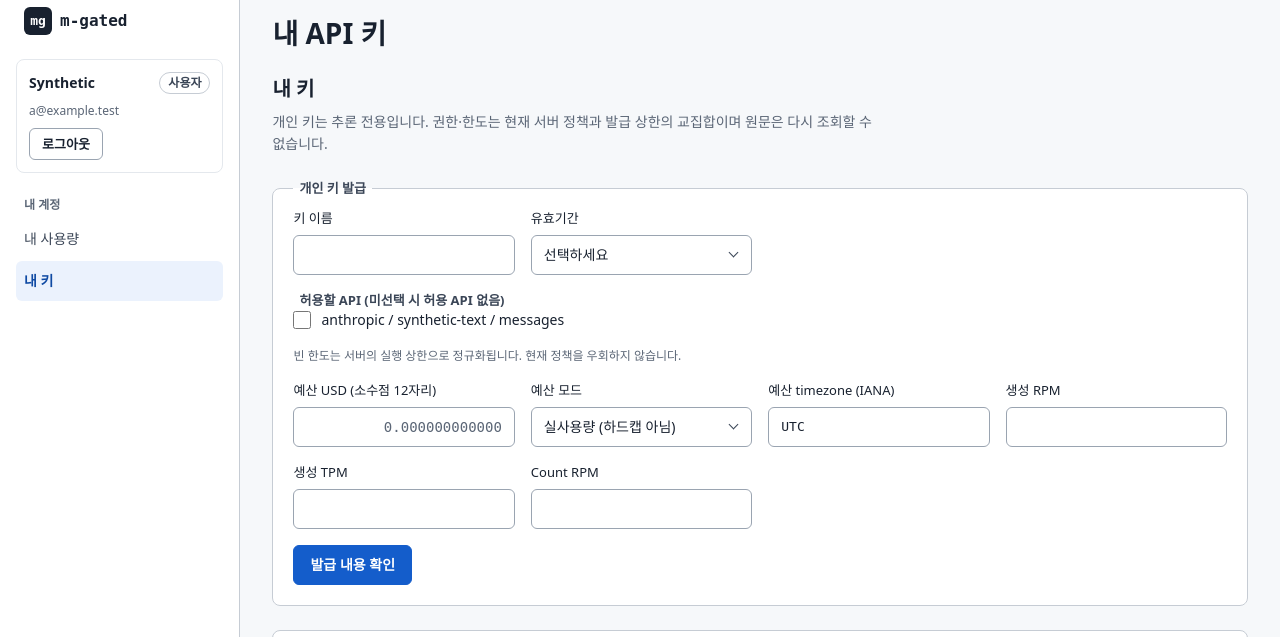
Scenario: copy_failure_keeps_the_key_visible_and_asks_for_manual_copy
The width and height of the screenshot is (1280, 637).
Expected: the heading "내 키" is shown, [272, 75, 314, 102]
Step 1. Type "복사 키" into the field labelled "키 이름" → point(404, 255), box [294, 235, 515, 275]
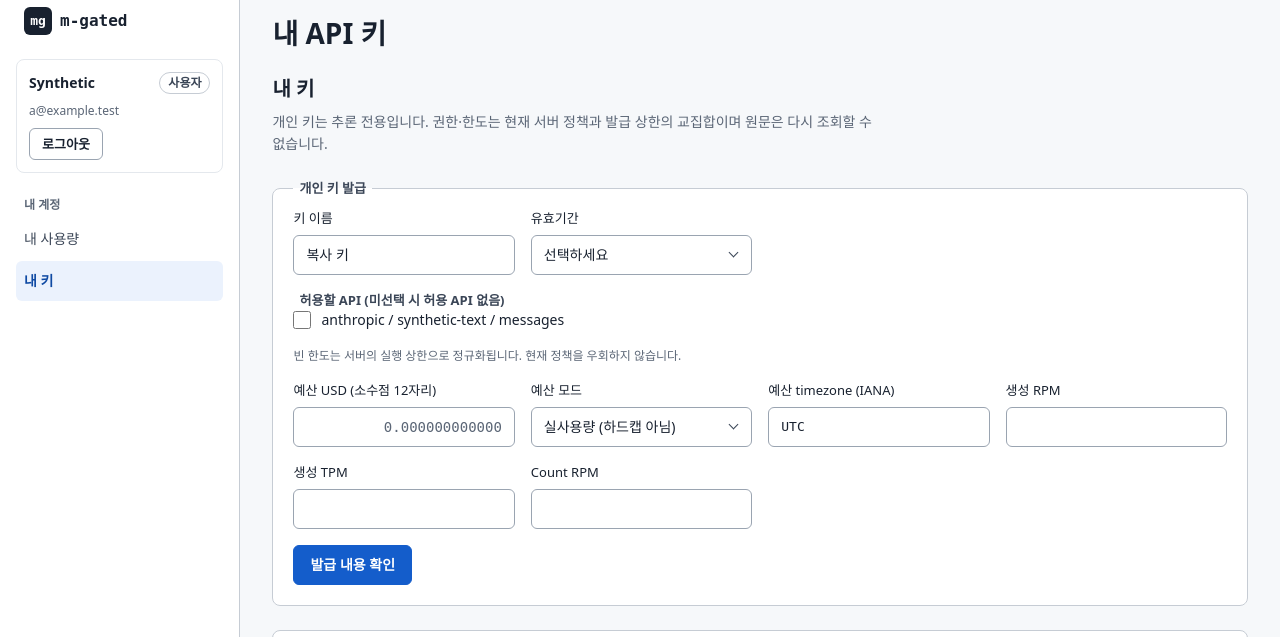
Step 2. Select "무제한 (만료 없음, 회수·정지는 적용)" in the dropdown labelled "유효기간" → point(642, 255), box [531, 235, 752, 275]
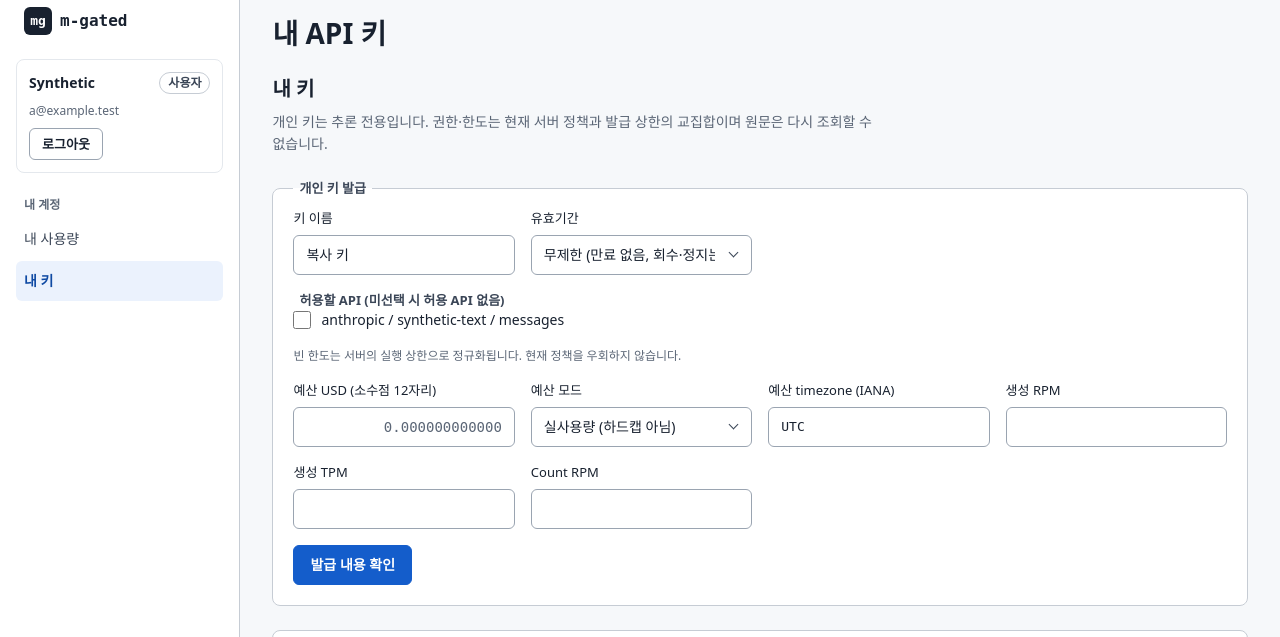
Step 3. Submit the form "개인 키 발급", box [272, 179, 1248, 606]
(page scrolled)
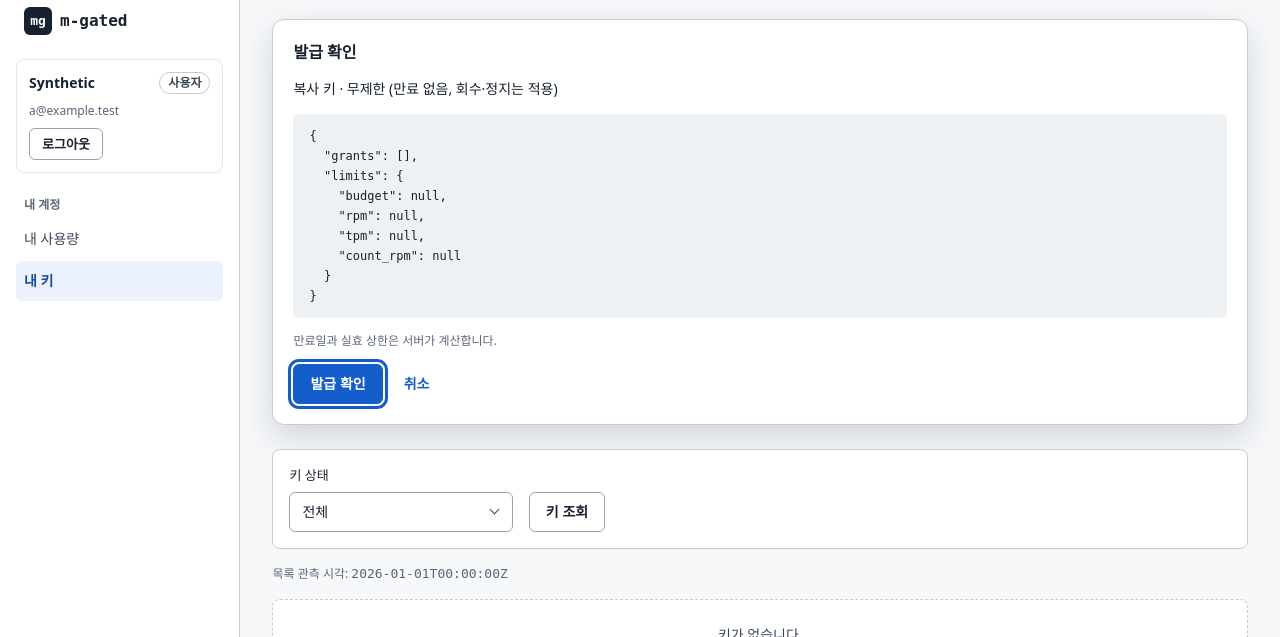
Step 4. Click the button "발급 확인" → point(338, 384), box [294, 364, 383, 404]
(page scrolled)
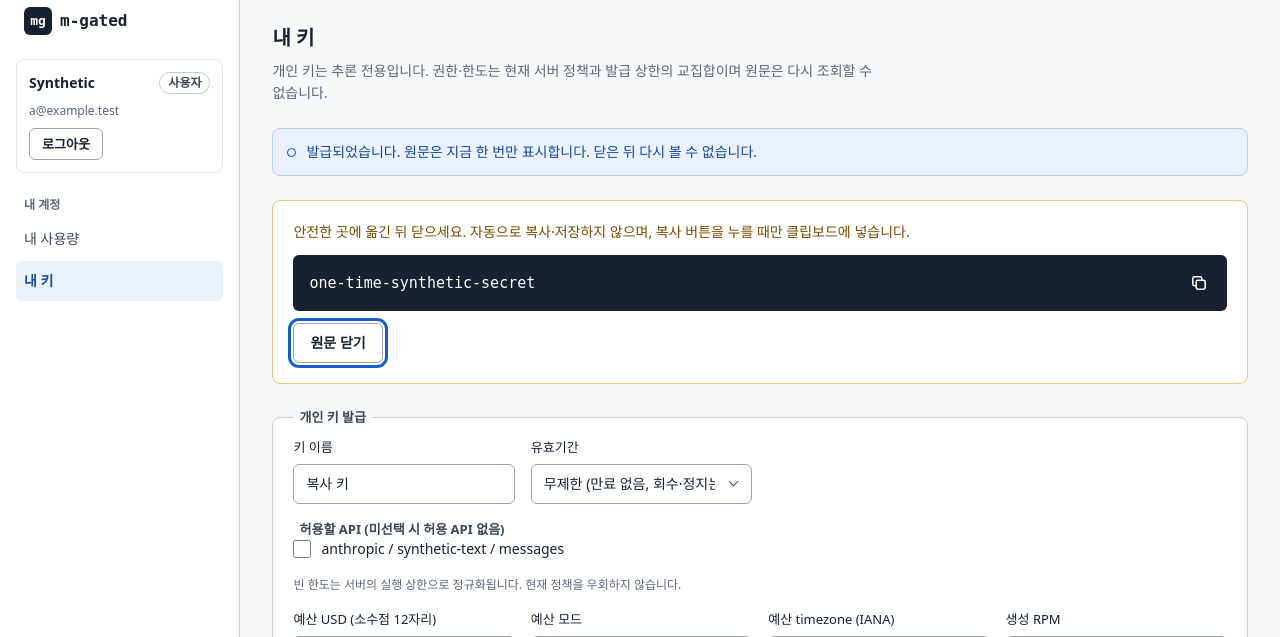
Result: the text "one-time-synthetic-secret" is shown at [294, 255, 1227, 311]
Step 5. Click the button named "원문 복사" → point(1199, 283), box [1179, 263, 1219, 303]
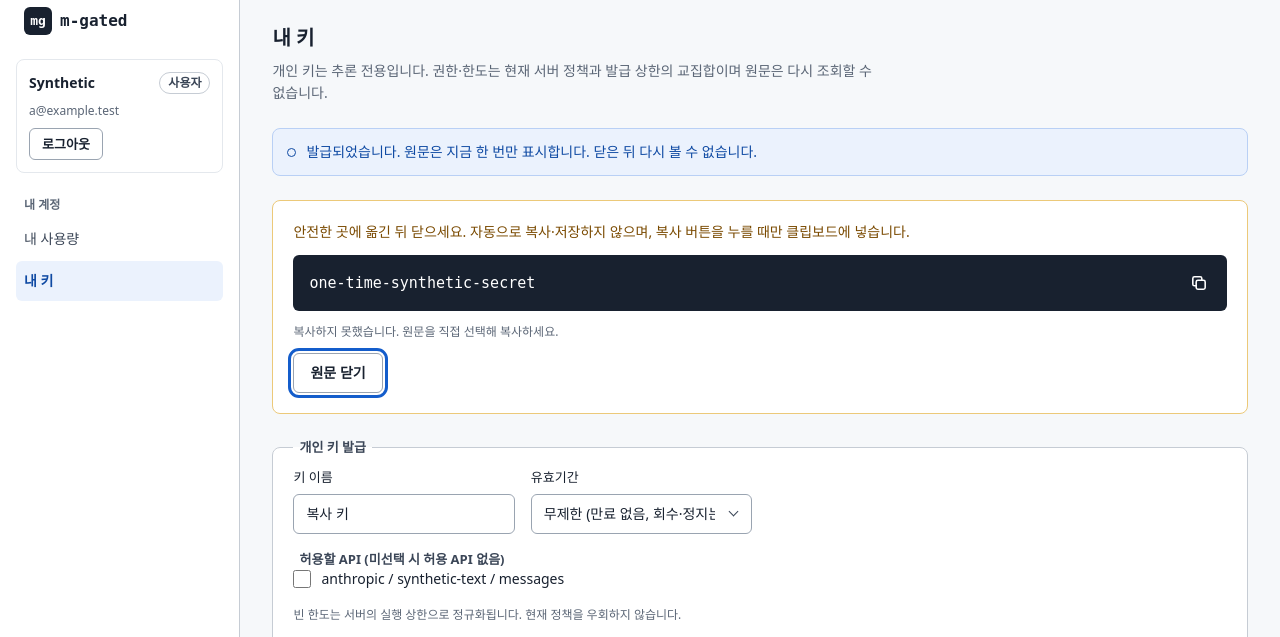
Result: the text "one-time-synthetic-secret" is shown at [294, 255, 1227, 311]
Result: the text "복사하지 못했습니다. 원문을 직접 선택해 복사하세요." is shown at [294, 323, 558, 340]
